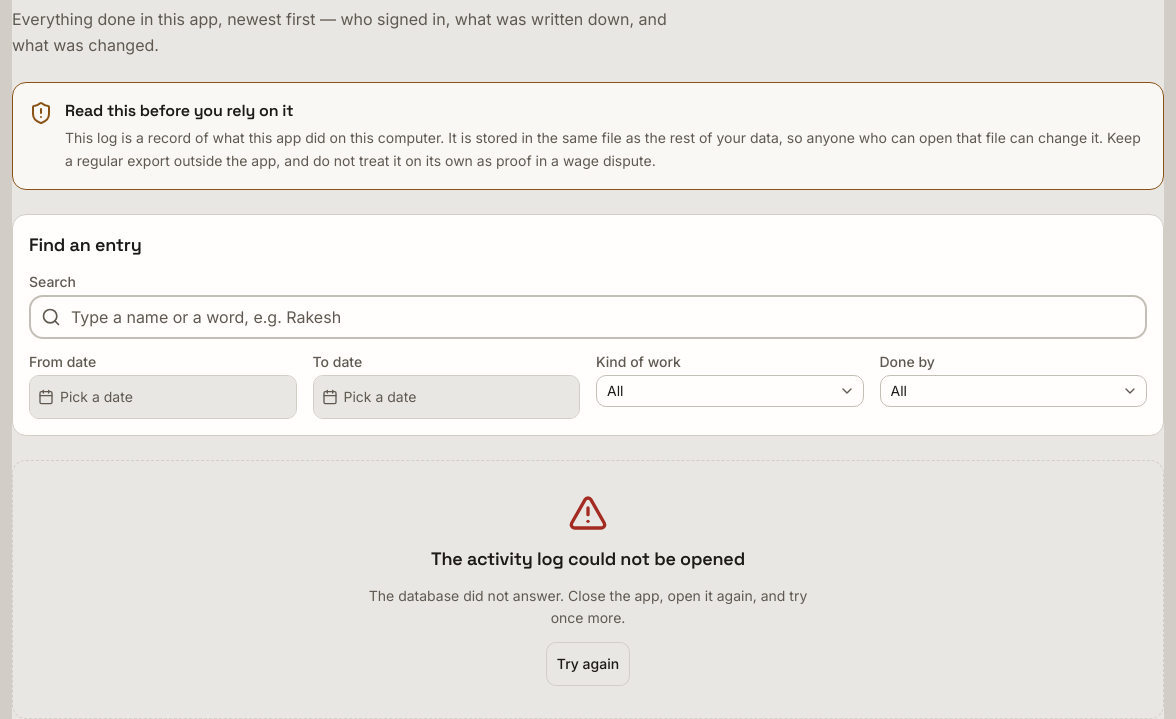
Test: activity log viewer › shows the failure state, and retries from it
The image size is (1176, 719).
(page scrolled)
Check: the heading "The activity log could not be opened" is shown, box [431, 544, 745, 572]
What coordinates should you click on to do the following:
click the button "Try again"
I would click on:
 (588, 664)
Its box is [546, 642, 630, 686].
(page scrolled)
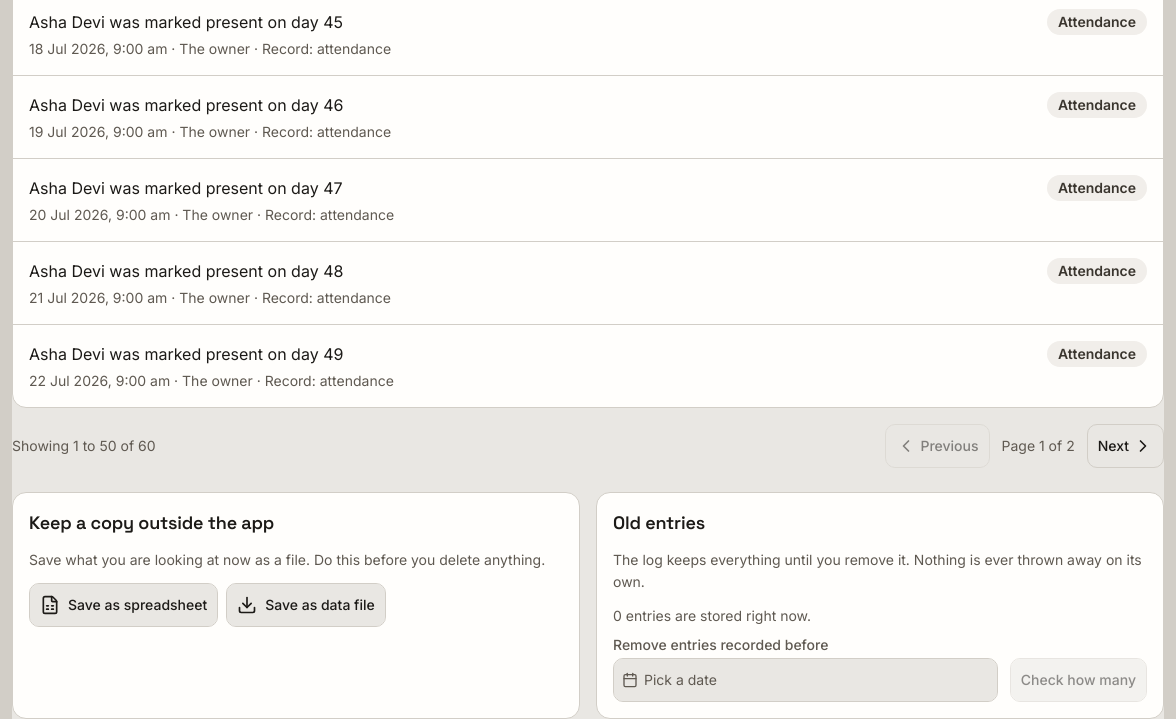
Check: the text "Showing 1 to 50 of 60" is shown, box [12, 436, 156, 456]
